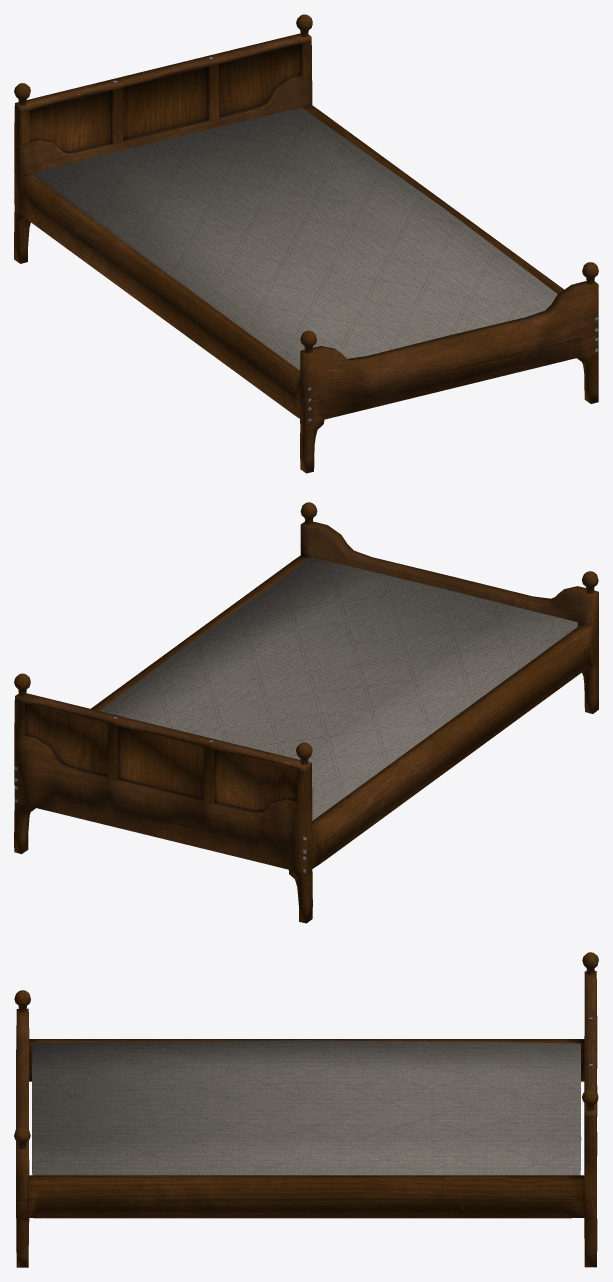
Rendered from bed02.glb.
3 renders of one model, top to bottom at view 1: azimuth 30°, elevation 25°; view 2: azimuth 150°, elevation 25°; view 3: azimuth 270°, elevation 25°, orthographic.
Visible parts, largest first — view 1: bed; view 2: bed; view 3: bed.
Boxes of the visible parts, left/top/right/bottom form: bed: left=14, top=14, right=598, bottom=473; bed: left=14, top=502, right=598, bottom=923; bed: left=14, top=952, right=598, bottom=1267.
Bounding box in the file's own units: 1.14 × 0.6514 × 1.97.
Materials: 1 (1 with a texture image).
